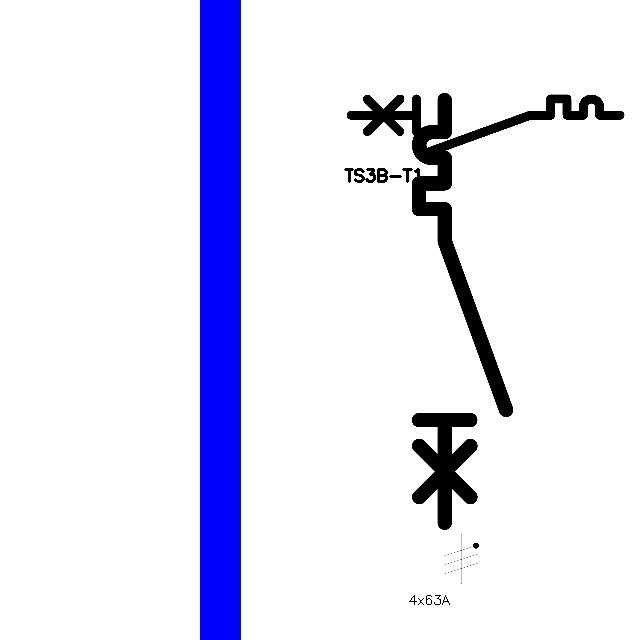interruptor_termomagnetico: (408, 89, 517, 534), (344, 92, 627, 161)
